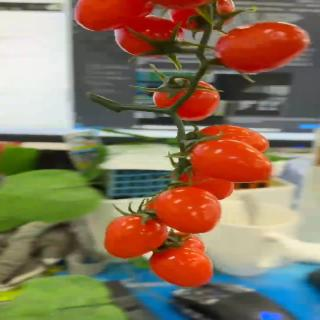tomato: (216, 23, 313, 76), (188, 138, 272, 182), (154, 186, 222, 234), (104, 215, 170, 260), (153, 78, 219, 123), (114, 16, 184, 58), (149, 247, 215, 290), (72, 0, 154, 31), (196, 125, 272, 156), (170, 0, 236, 34), (177, 164, 236, 202), (150, 232, 206, 262), (146, 0, 222, 9)
